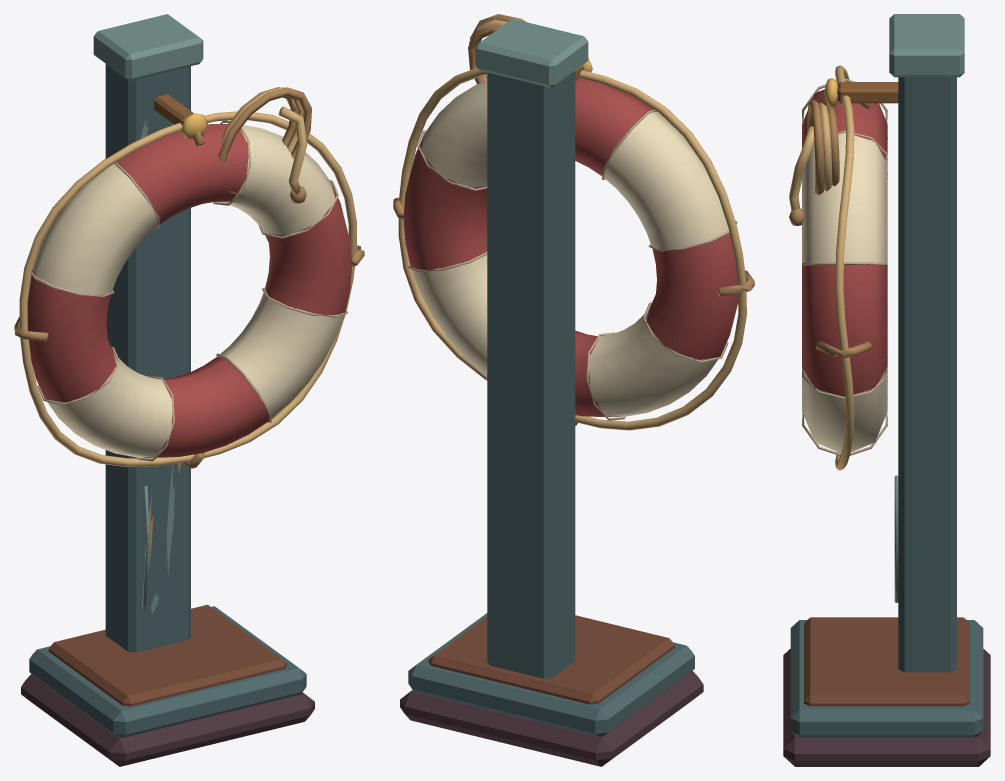
The model's file is lifebuoy.glb.
3 views of the same model, side by side, from view 1: azimuth 30°, elevation 25°; view 2: azimuth 150°, elevation 25°; view 3: azimuth 270°, elevation 25° (orthographic). The views are drawn at different scales.
Visible parts, largest first — view 1: lifebuoy; view 2: lifebuoy; view 3: lifebuoy.
Boxes of the visible parts, x1,y1,x2,y2 form: lifebuoy: (14, 14, 364, 766); lifebuoy: (393, 14, 754, 766); lifebuoy: (783, 14, 990, 766).
Bounding box in the file's own units: 0.6 × 1.1 × 0.3.
